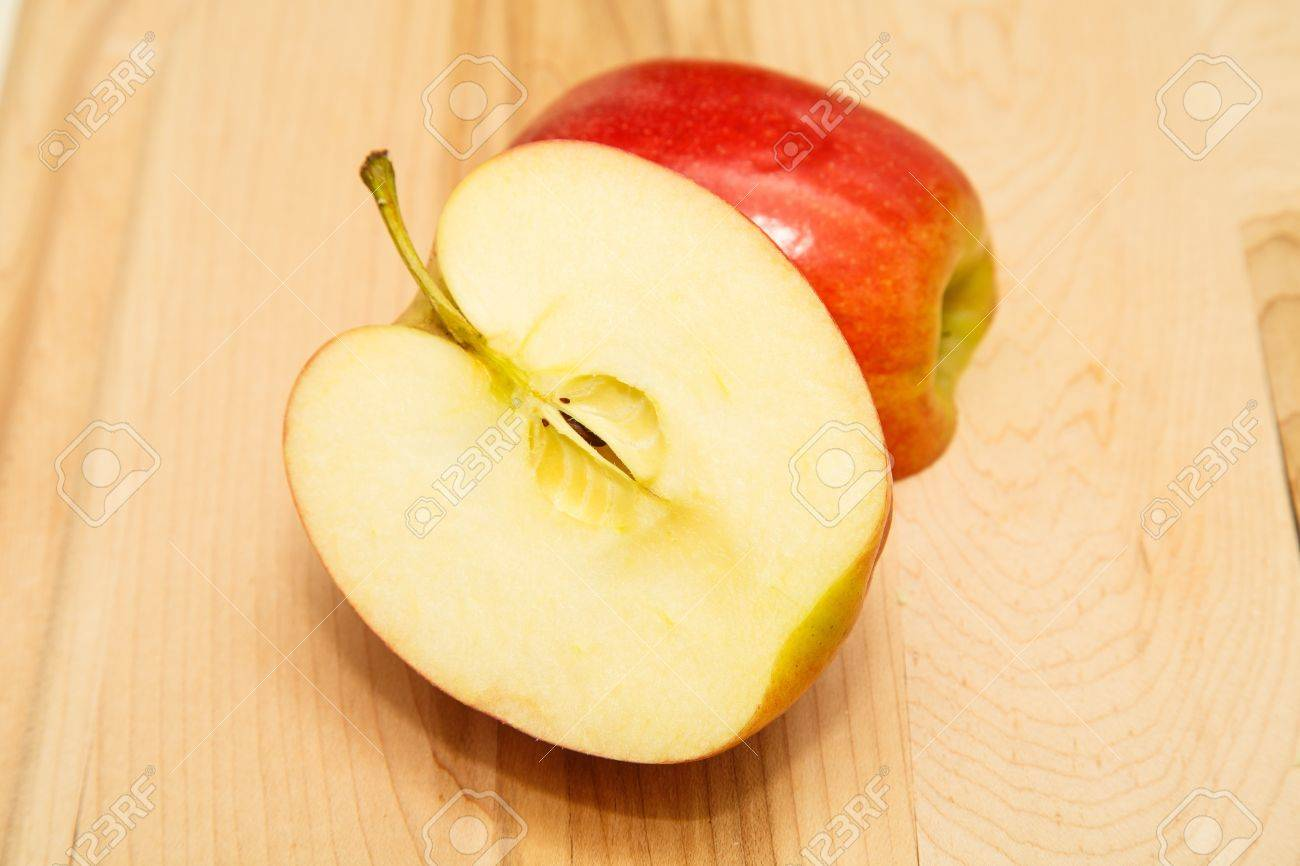apple: (268, 157, 885, 776), (490, 58, 1028, 479)
